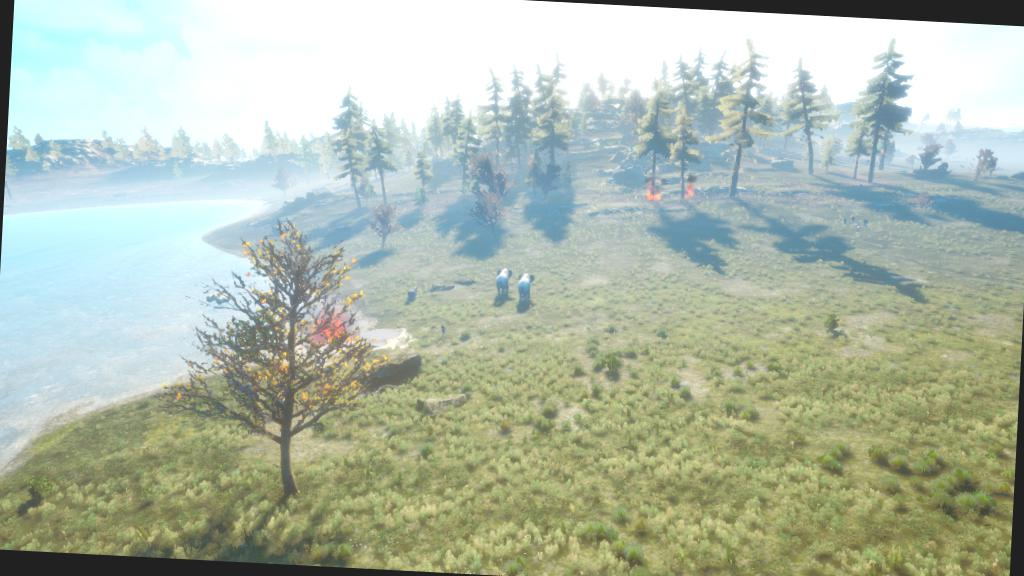Fire: (305, 300, 356, 358), (678, 180, 704, 204), (644, 176, 664, 204)
elephant: (512, 270, 541, 310), (490, 264, 515, 305)
hippopotamus: (398, 283, 426, 308)
human: (433, 322, 452, 343)
